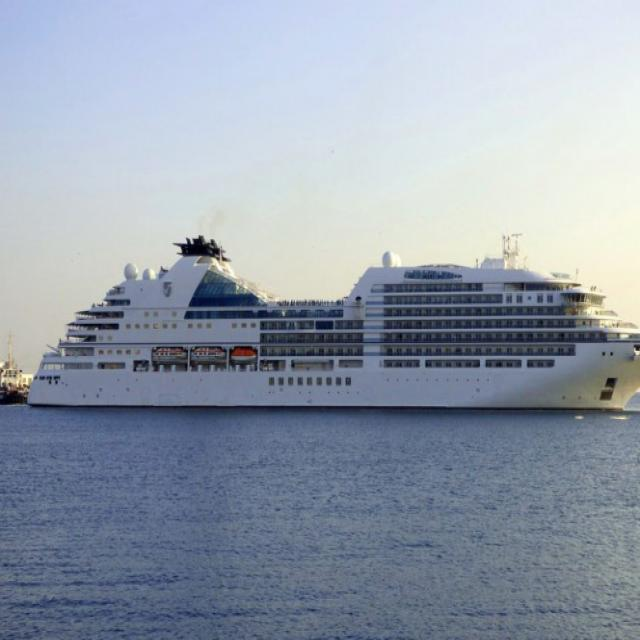cruises: (25, 233, 640, 422)
